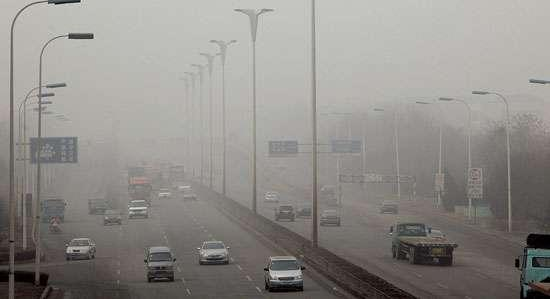bus: (42, 197, 65, 224)
car: (263, 255, 306, 293), (143, 245, 177, 283), (196, 240, 231, 266), (64, 237, 97, 261), (126, 199, 152, 219), (274, 201, 296, 223), (318, 209, 342, 227), (378, 198, 399, 215), (103, 209, 123, 226), (295, 203, 315, 218), (261, 191, 281, 203), (182, 188, 198, 201), (158, 188, 171, 200)
